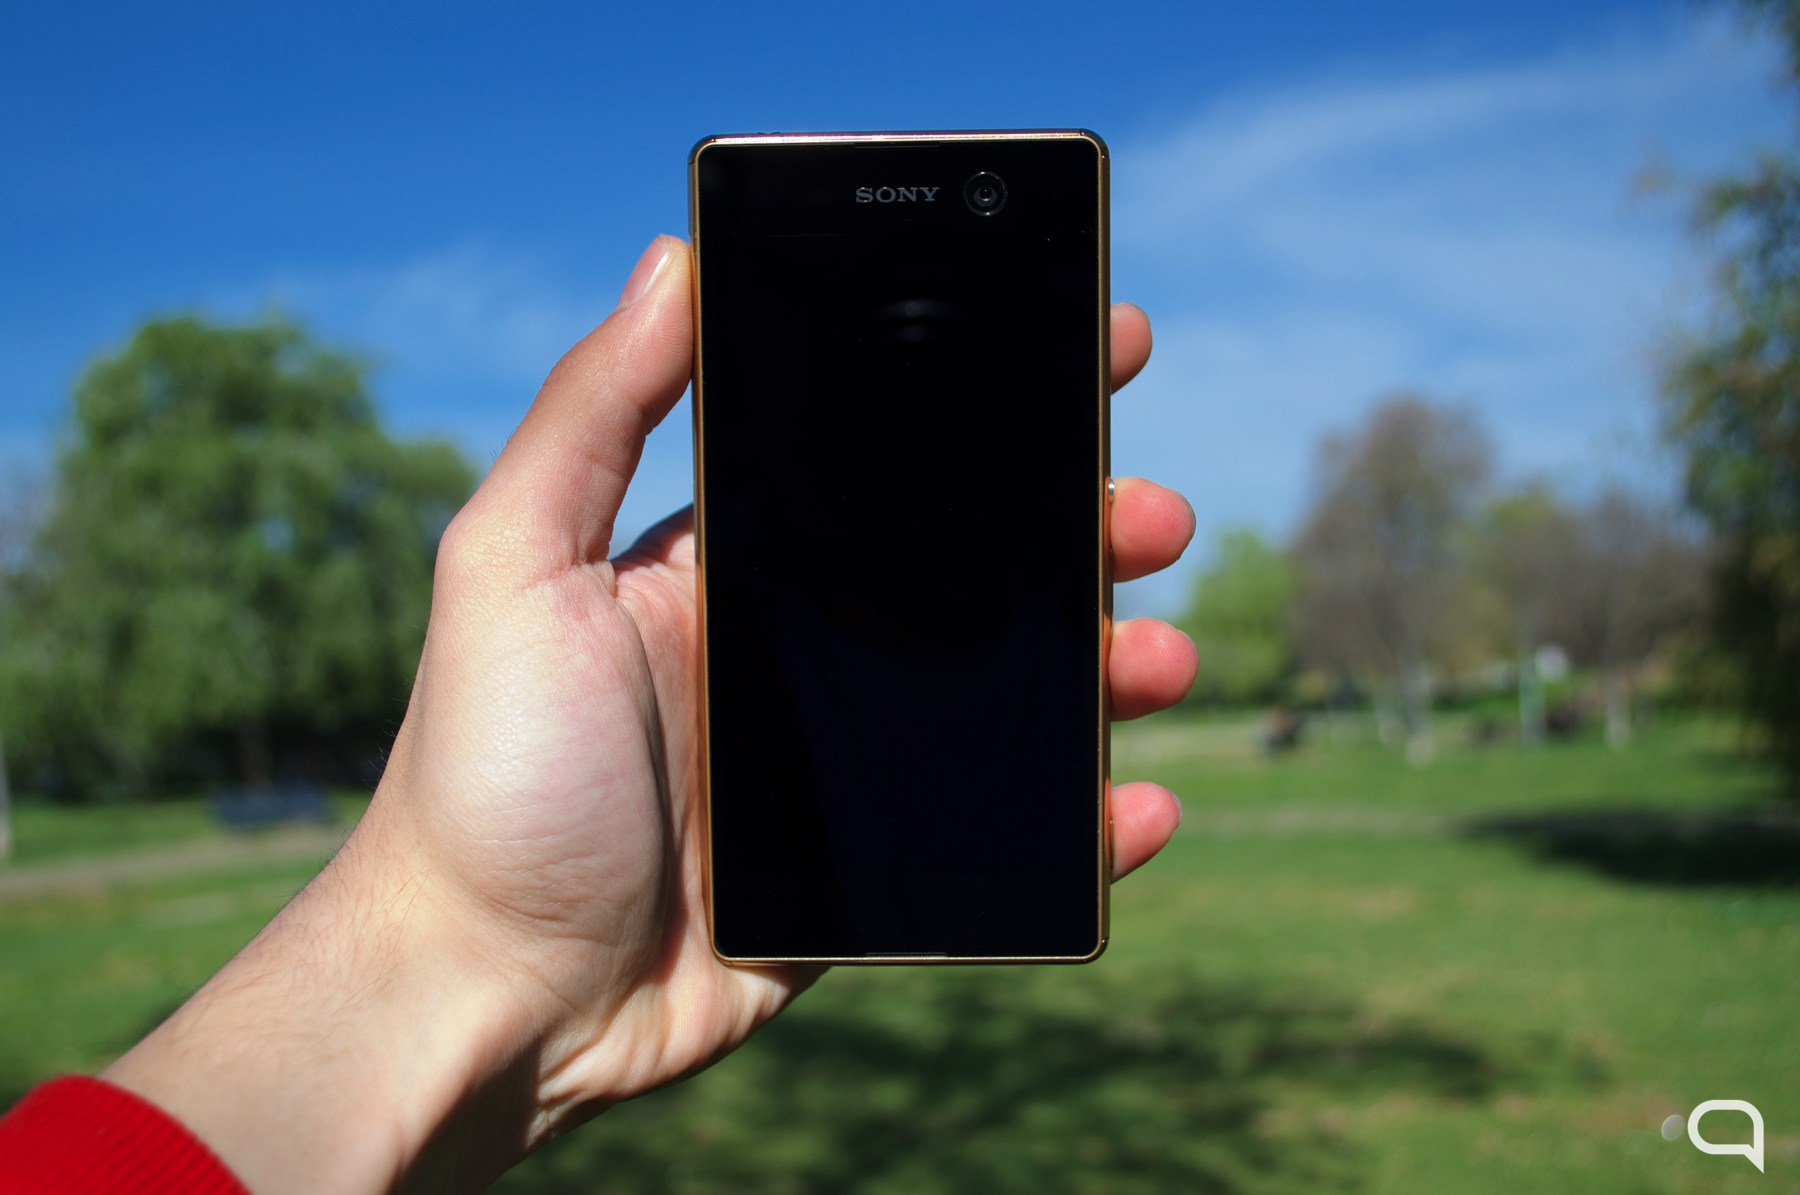smartphone: (688, 129, 1117, 968)
